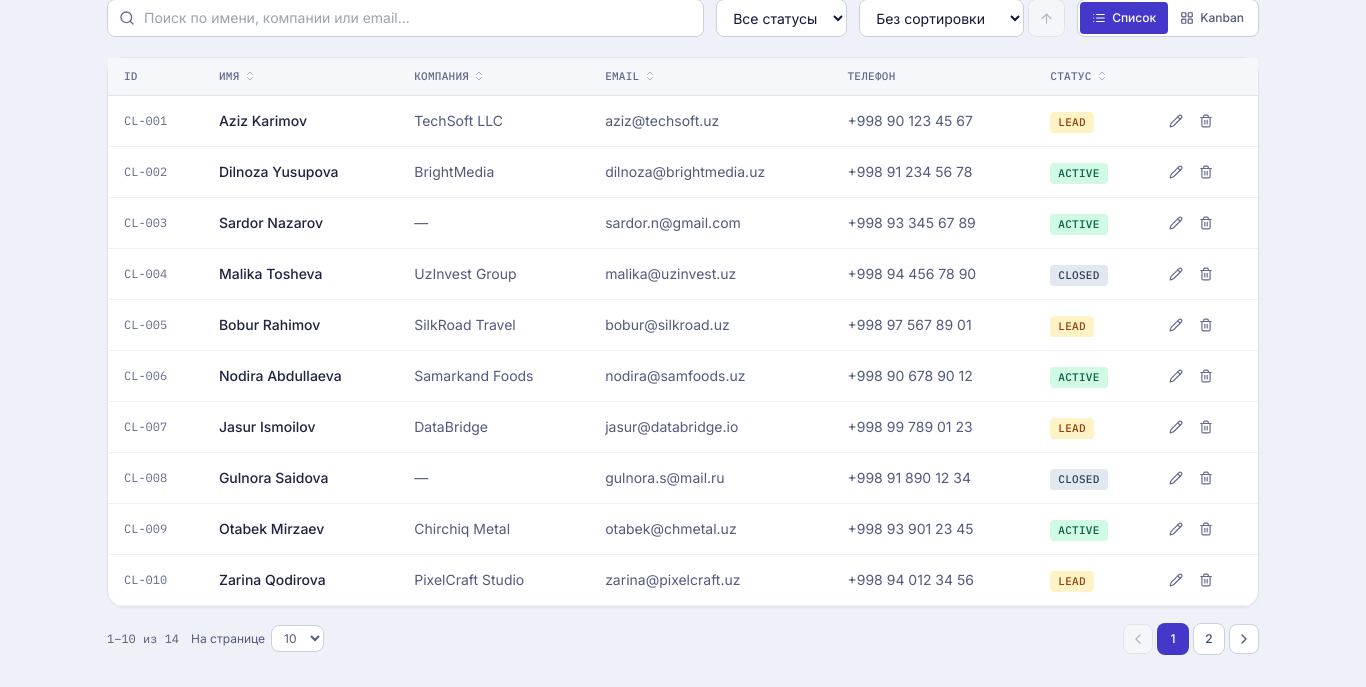
Test: list, stats and pagination › navigates to the next page
(page scrolled)
Click the button named "Следующая страница".
click(1244, 638)  # box [1229,624,1259,654]
(page scrolled)
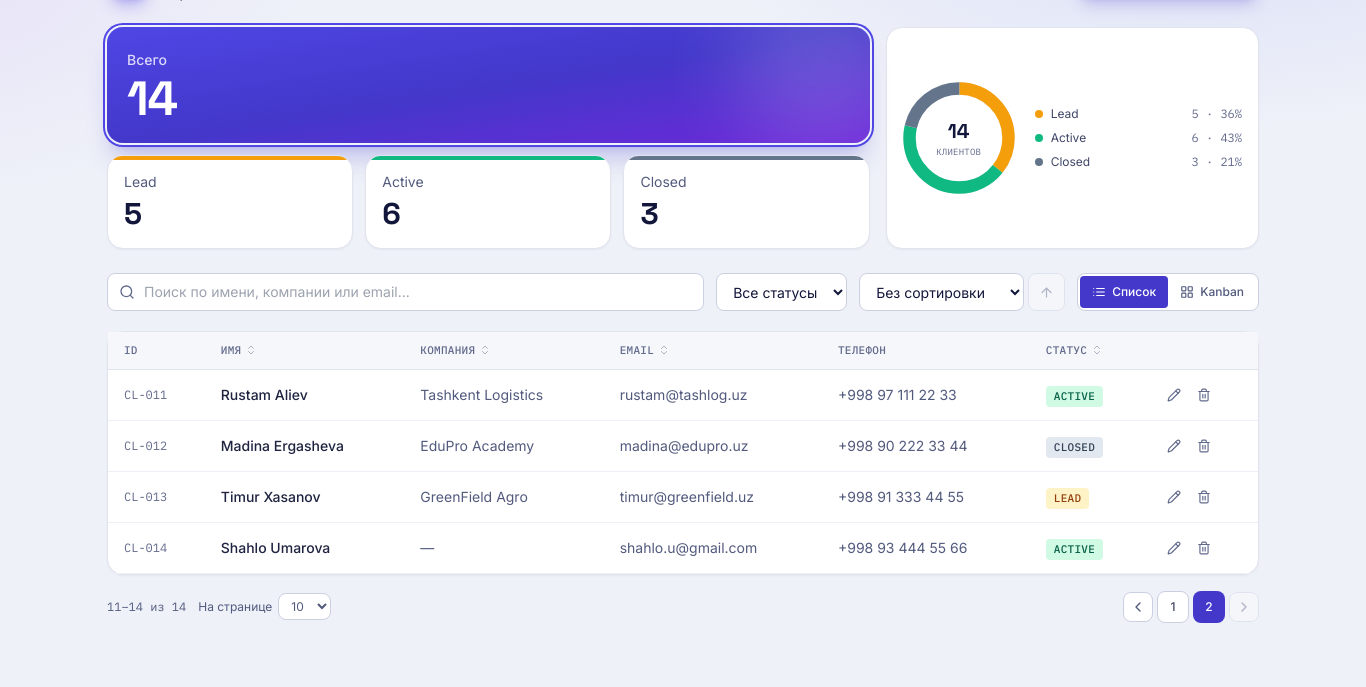
Expected: the text "11–14 из 14" is shown, [107,598,186,614]
